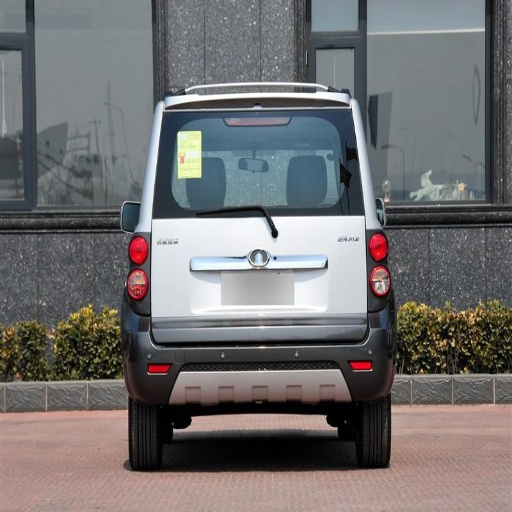back_bumper: (123, 303, 394, 411)
tailgate: (257, 292, 352, 330)
trunk: (148, 219, 374, 342), (177, 102, 294, 161), (429, 36, 482, 157)
